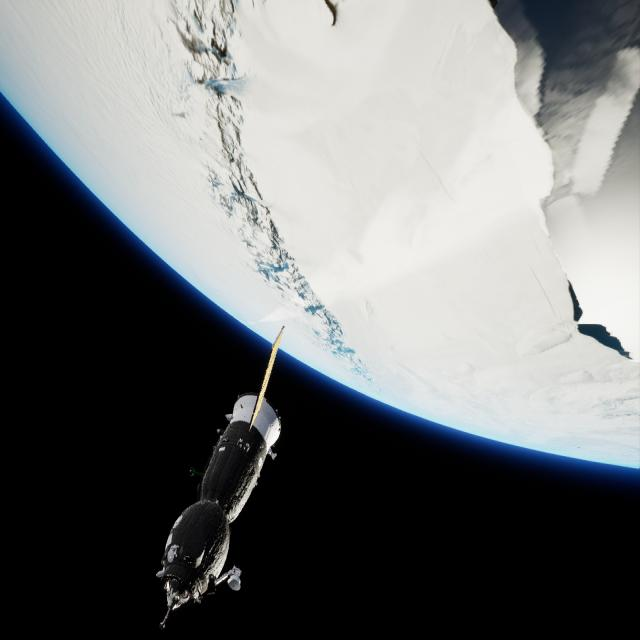Satellites revolving around earth: (153, 322, 288, 630)
